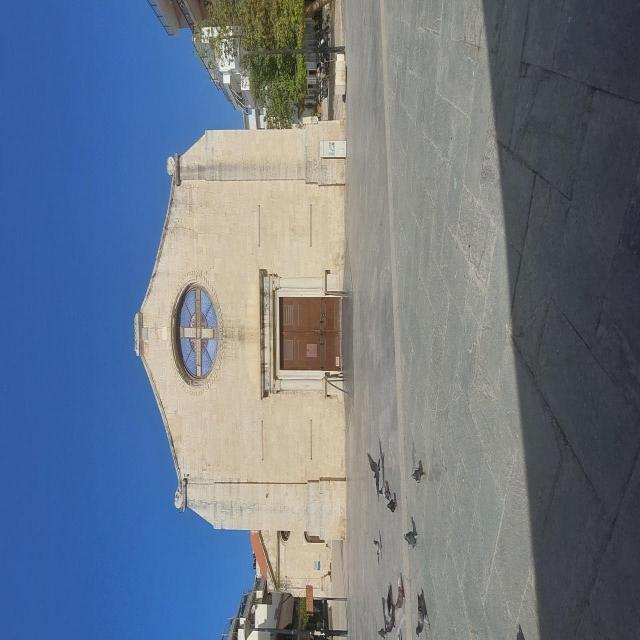Agia Aikaterini: (46, 293, 238, 640)
